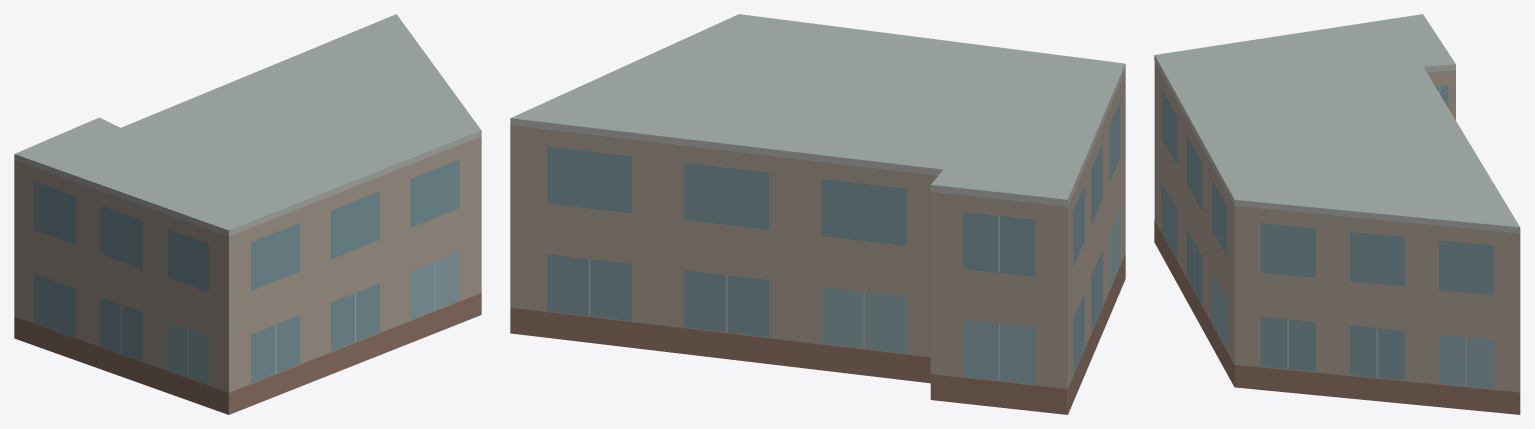
Rendered from survey-upis-32993747.glb.
3 views of the same model, side by side, from view 1: azimuth 30°, elevation 25°; view 2: azimuth 150°, elevation 25°; view 3: azimuth 270°, elevation 25° (orthographic). The views are drawn at different scales.
Visible parts, largest first — view 1: survey-upis-32993747.tmp; view 2: survey-upis-32993747.tmp; view 3: survey-upis-32993747.tmp.
Boxes of the visible parts, x1,y1,x2,y2 form: survey-upis-32993747.tmp: (14,14,481,414); survey-upis-32993747.tmp: (510,14,1125,414); survey-upis-32993747.tmp: (1154,14,1520,414).
Size of the model in its own units: 18.55 by 7.6 by 13.44.
